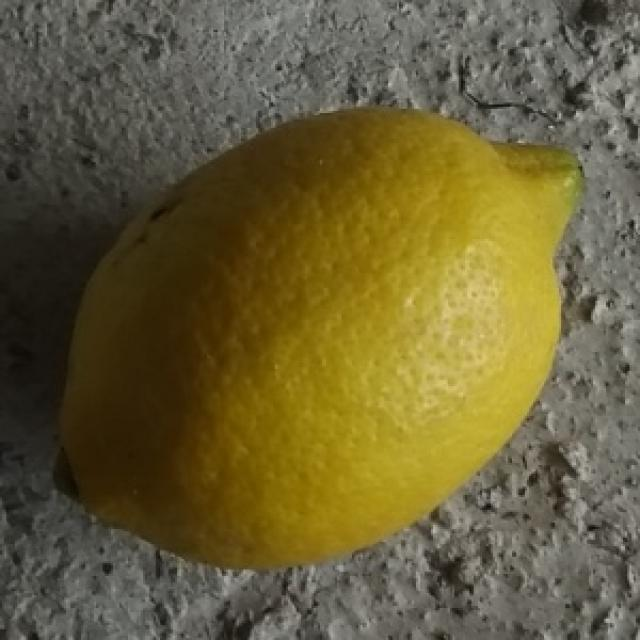Ripe: (48, 103, 585, 576)
